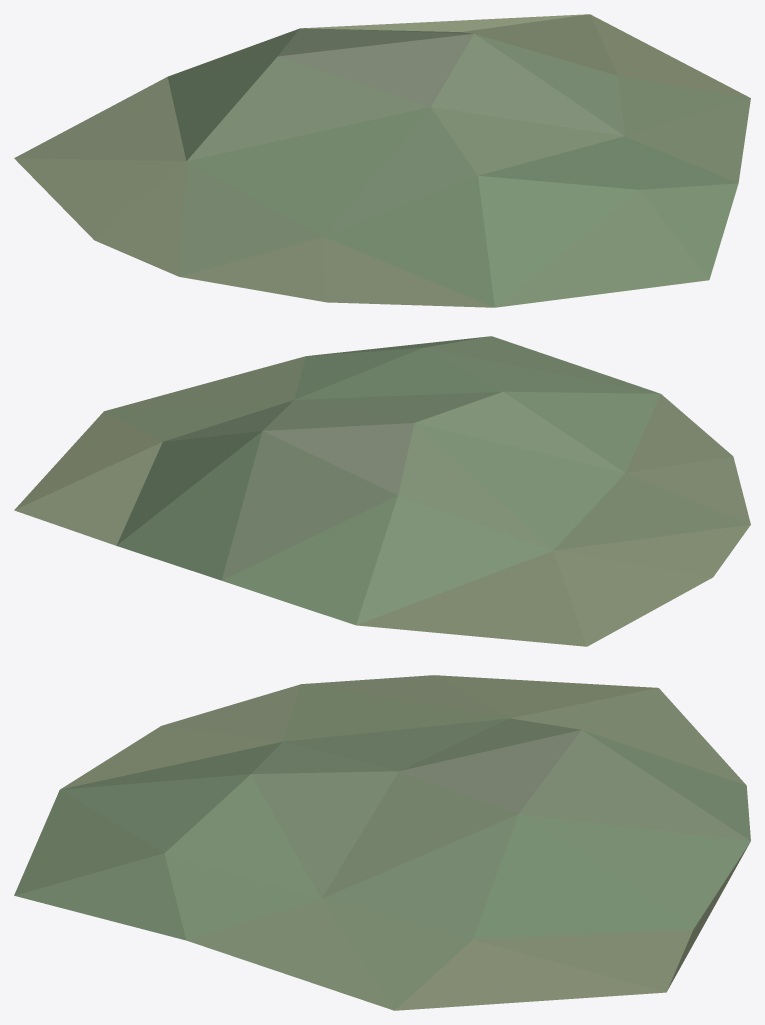
Rendered from kit_wet_b.glb.
3 views of the same model, one above another, from view 1: azimuth 30°, elevation 25°; view 2: azimuth 150°, elevation 25°; view 3: azimuth 270°, elevation 25° (orthographic). The views are drawn at different scales.
Parts seen in each view (by area): view 1: kit_wet_b; view 2: kit_wet_b; view 3: kit_wet_b.
Boxes of the visible parts, <box> form: kit_wet_b: <box>14,14,750,307</box>; kit_wet_b: <box>14,336,750,646</box>; kit_wet_b: <box>14,675,750,1010</box>.
Bounding box in the file's own units: 35.78 × 4.05 × 33.21.
